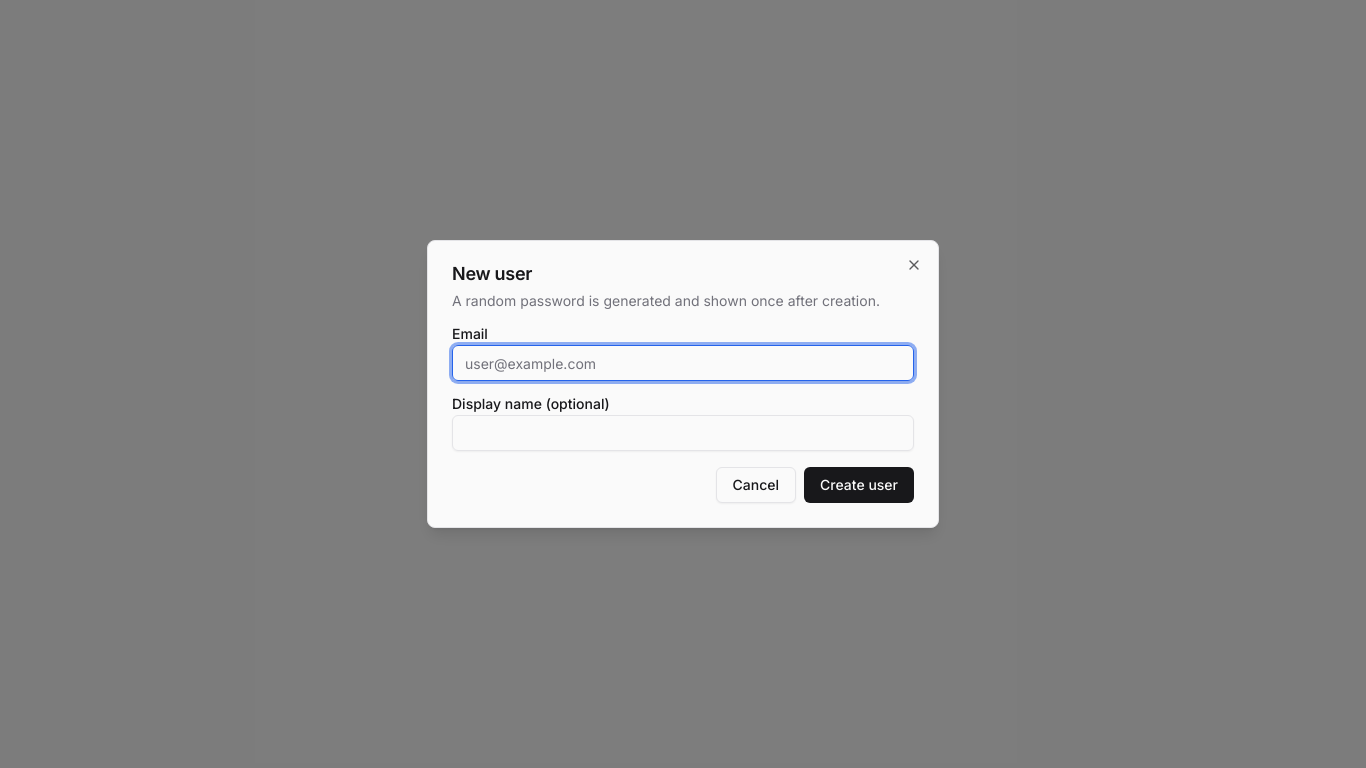
Test: QuickCreateUserDialog › shows the API detail message when the create fails
The image size is (1366, 768).
Type "bob@example.com" into the field labelled "Email".
click(683, 363); type("bob@example.com")  # box [452,345,914,381]
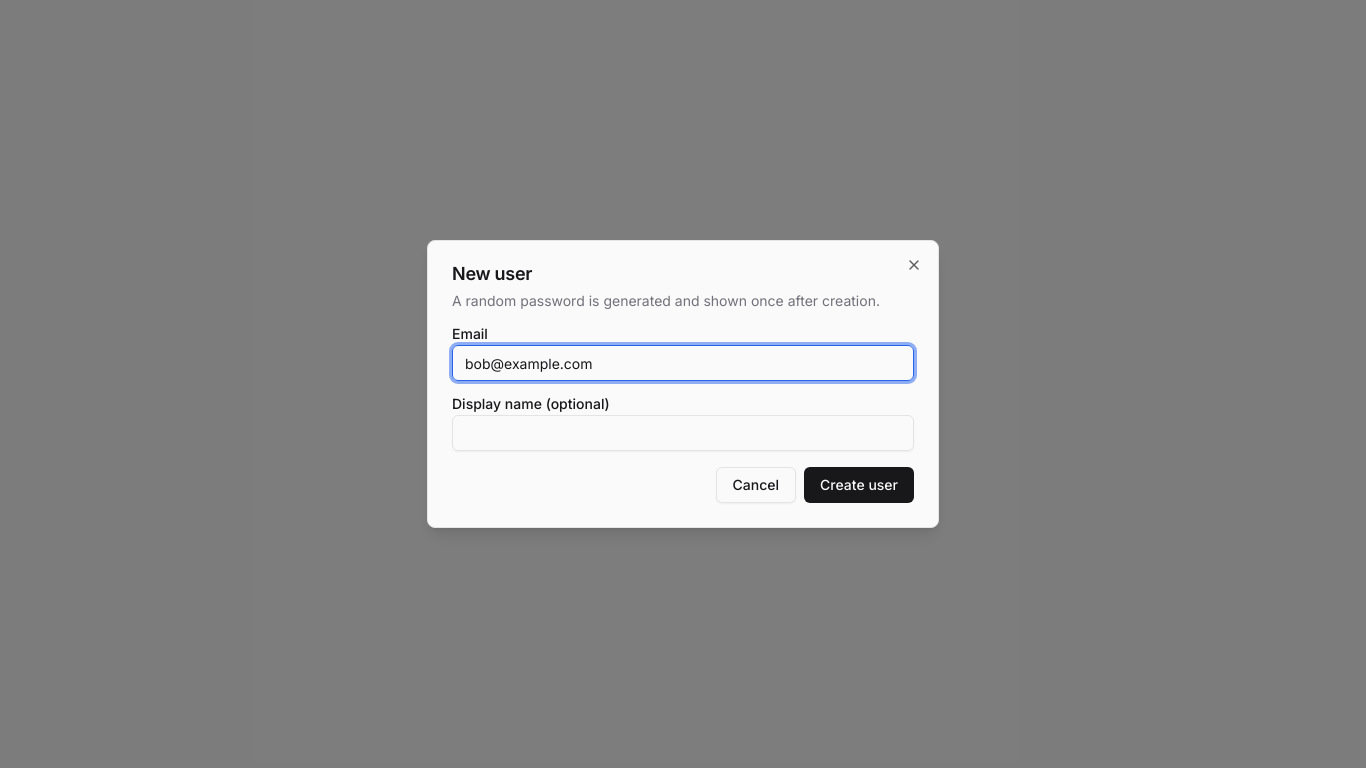
Click the button "Create user".
click(859, 485)  # box [804,467,914,503]
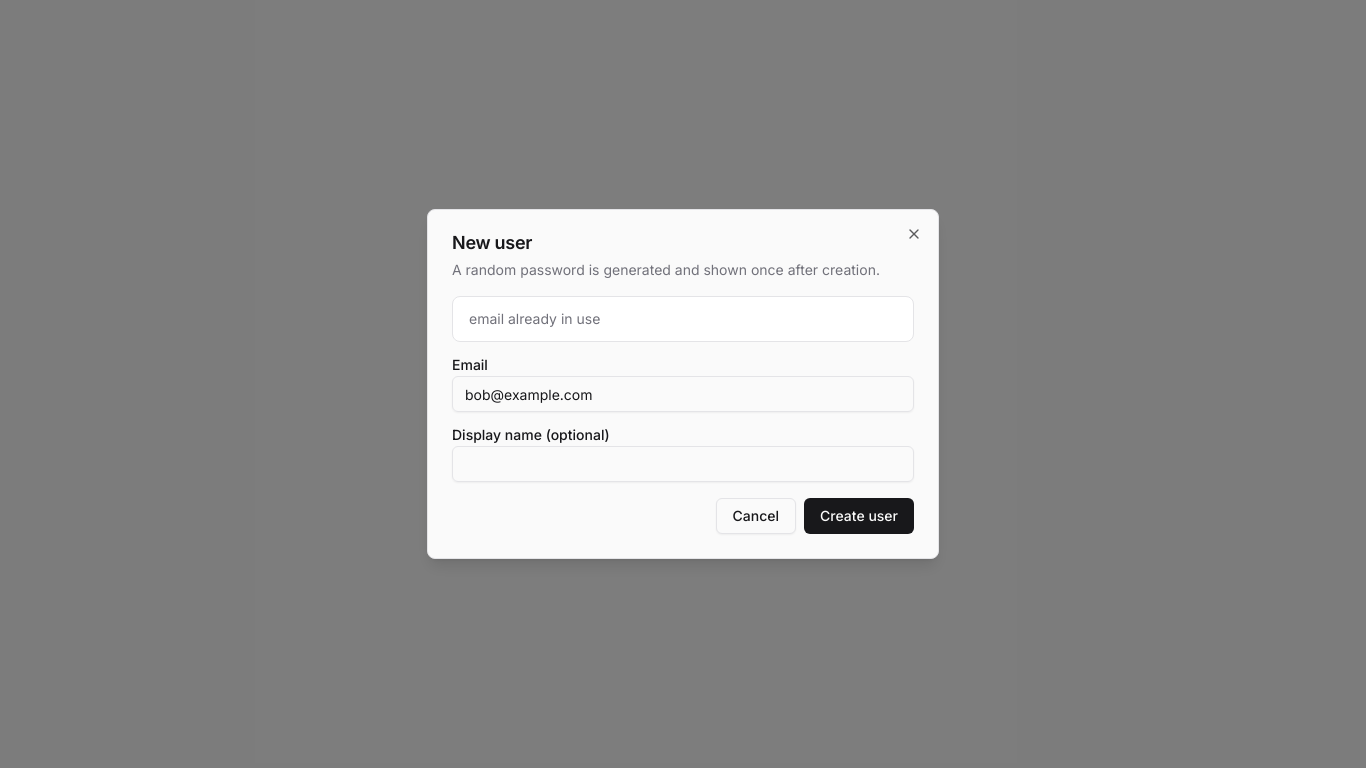
Expected: the text "email already in use" is shown, [469,310,600,327]
